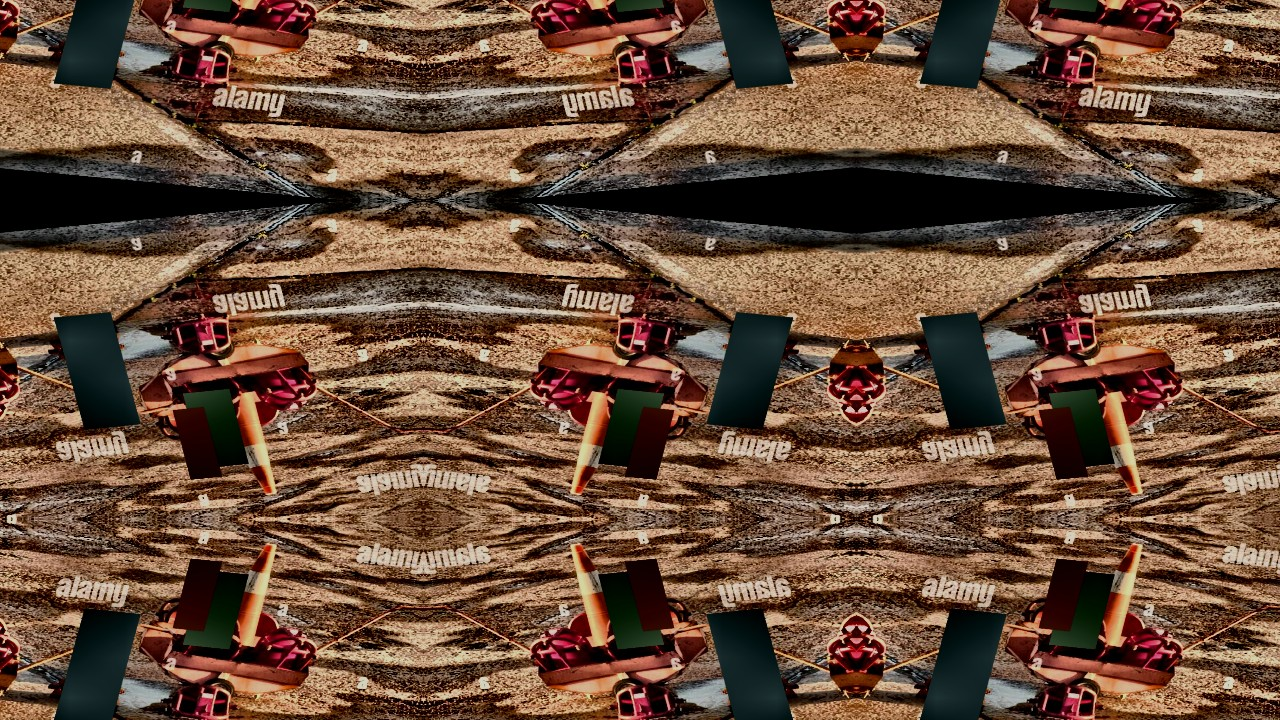chock: (41, 19, 136, 83), (710, 19, 805, 83), (908, 19, 1003, 83), (41, 318, 136, 382), (710, 318, 805, 382), (908, 318, 1003, 382), (41, 657, 136, 720), (710, 657, 805, 720), (908, 657, 1003, 720), (594, 372, 674, 437), (594, 602, 674, 667), (173, 372, 252, 437), (1040, 372, 1119, 437), (173, 602, 252, 667), (1040, 602, 1119, 667), (160, 37, 239, 92), (608, 37, 687, 92), (1026, 37, 1105, 92), (160, 309, 239, 364), (608, 309, 687, 364), (1026, 309, 1105, 364), (1116, 359, 1190, 417), (250, 359, 323, 417), (524, 359, 597, 417), (1116, 622, 1190, 679), (250, 622, 323, 679), (524, 622, 597, 679), (160, 675, 239, 720), (608, 675, 687, 720), (1026, 675, 1105, 720), (153, 403, 223, 452), (624, 403, 694, 452), (1020, 403, 1090, 452), (153, 587, 223, 635), (624, 587, 694, 635), (1020, 587, 1090, 635), (1116, 0, 1190, 41), (250, 0, 323, 41), (524, 0, 597, 41), (817, 358, 857, 426), (857, 358, 897, 426), (817, 612, 857, 680), (857, 612, 897, 680), (594, 0, 674, 29), (173, 0, 252, 29), (1040, 0, 1119, 29), (0, 358, 30, 426), (0, 612, 30, 680), (817, 0, 857, 42), (857, 0, 897, 42), (829, 602, 857, 648), (0, 0, 30, 42), (829, 391, 857, 436), (857, 602, 884, 648), (857, 391, 884, 436), (559, 399, 593, 431), (559, 608, 593, 640), (254, 399, 287, 431), (1121, 399, 1154, 431), (254, 608, 287, 640), (1121, 608, 1154, 640), (0, 602, 18, 648), (0, 391, 18, 436), (829, 0, 857, 10), (857, 0, 884, 10), (0, 0, 18, 10), (559, 0, 593, 2), (254, 0, 287, 2), (1121, 0, 1154, 2)
wheel: (195, 35, 240, 70), (1062, 35, 1107, 70), (195, 673, 240, 708), (1062, 673, 1107, 708), (607, 35, 651, 70), (607, 673, 651, 708), (195, 331, 240, 365), (1062, 331, 1107, 365), (607, 331, 651, 365)
